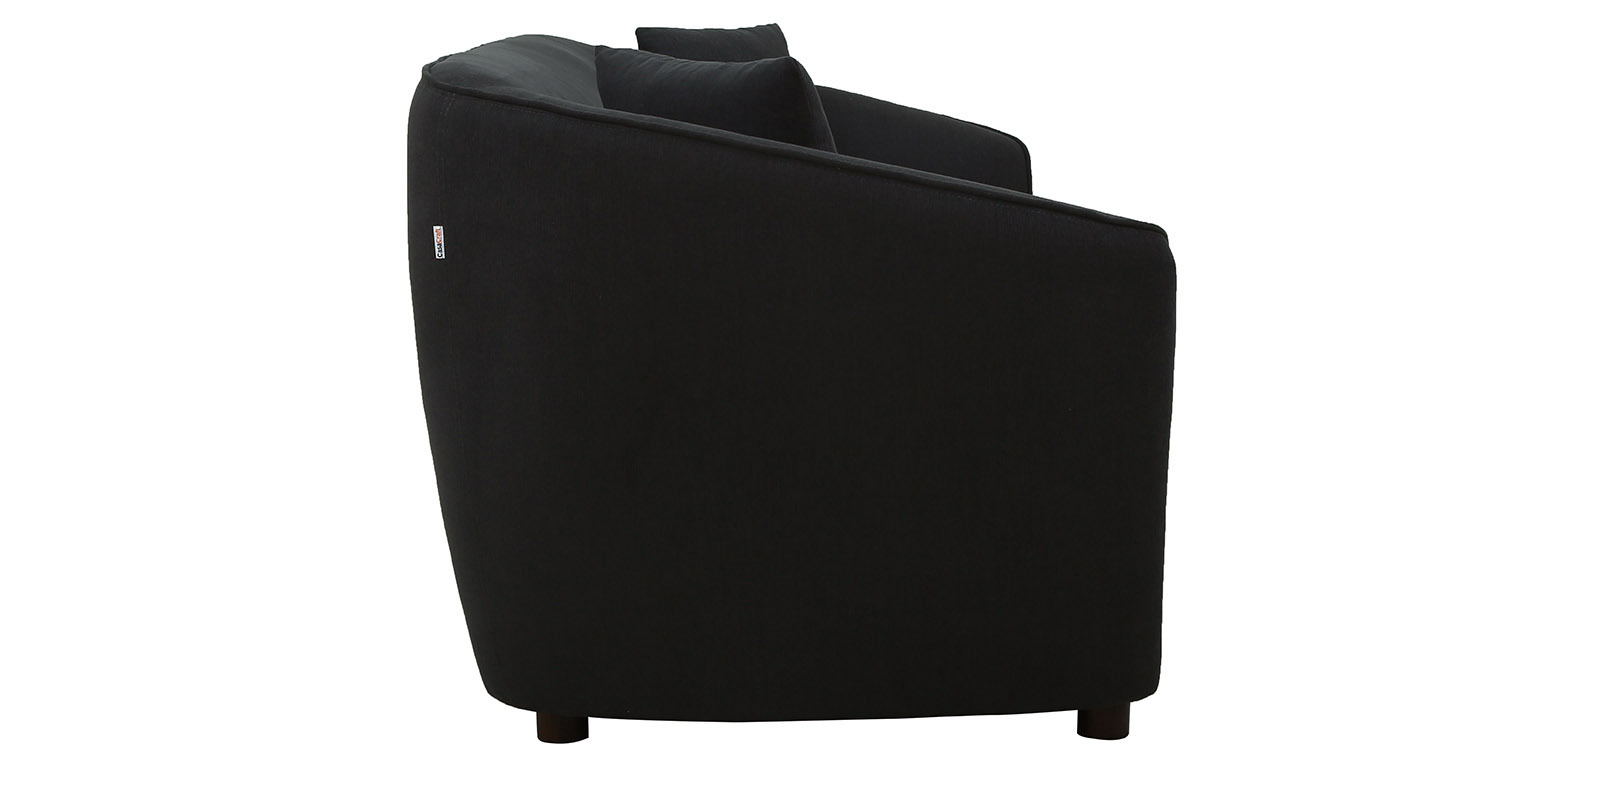Mamore Three Seater Sofa in Charcoal Grey Color by CasaCraft: (405, 19, 1216, 744)
